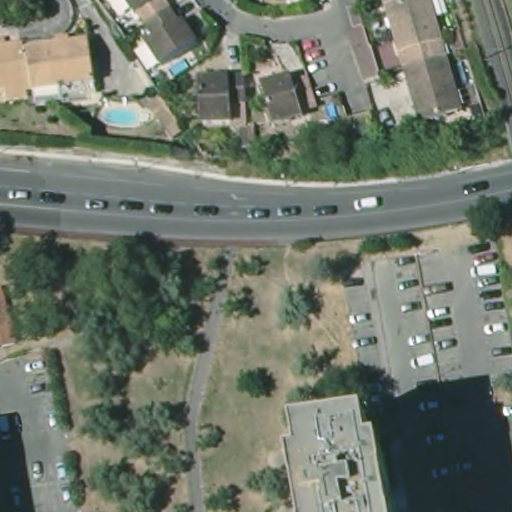pool: (98, 103, 151, 130), (168, 56, 193, 79), (323, 102, 342, 123)
